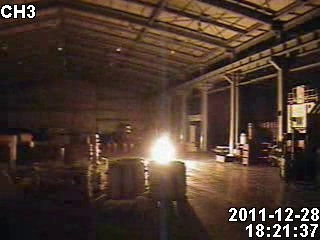fire: (146, 131, 177, 165)
